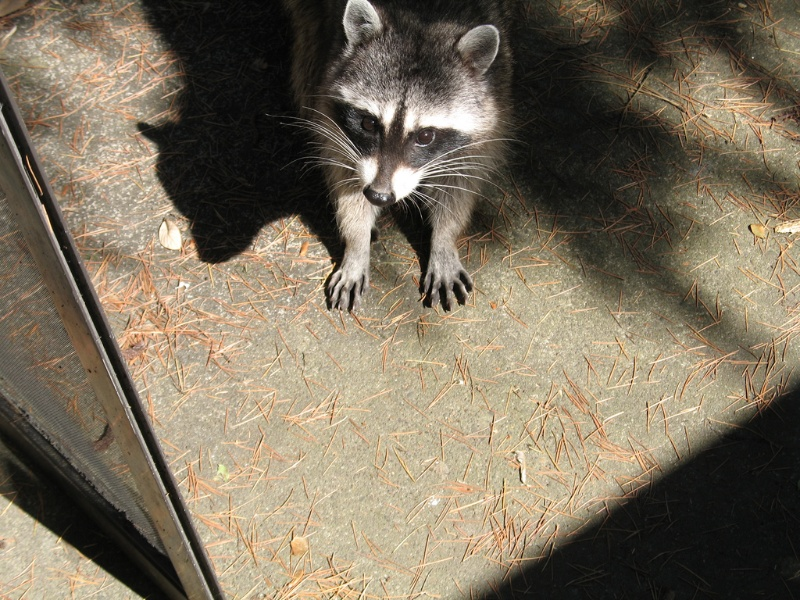raccoon: (290, 4, 522, 322)
